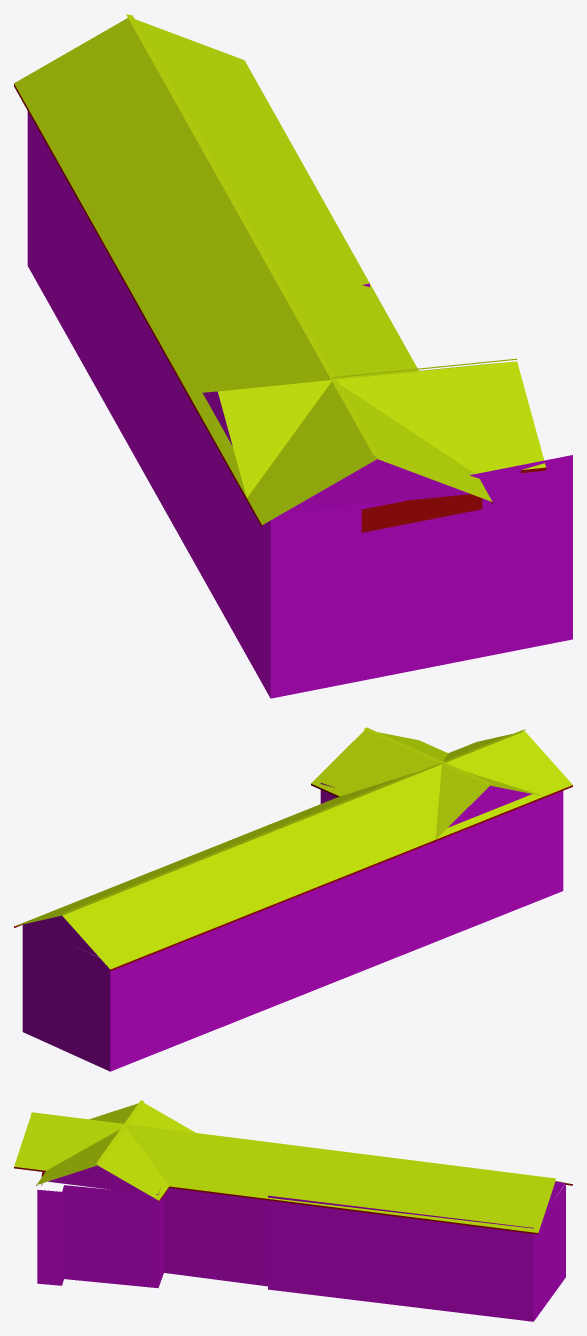
The model's file is bgj_370.glb.
The picture shows the model from 3 angles, top to bottom: view 1: azimuth 30°, elevation 25°; view 2: azimuth 150°, elevation 25°; view 3: azimuth 270°, elevation 25°; orthographic projection. The views are drawn at different scales.
Visible parts, largest first — view 1: bgj_370; view 2: bgj_370; view 3: bgj_370.
Boxes of the visible parts, x1,y1,x2,y2 form: bgj_370: (14,14,572,698); bgj_370: (14,727,572,1071); bgj_370: (14,1100,572,1321).
Size of the model in its own units: 18.65 by 9.11 by 38.25.
